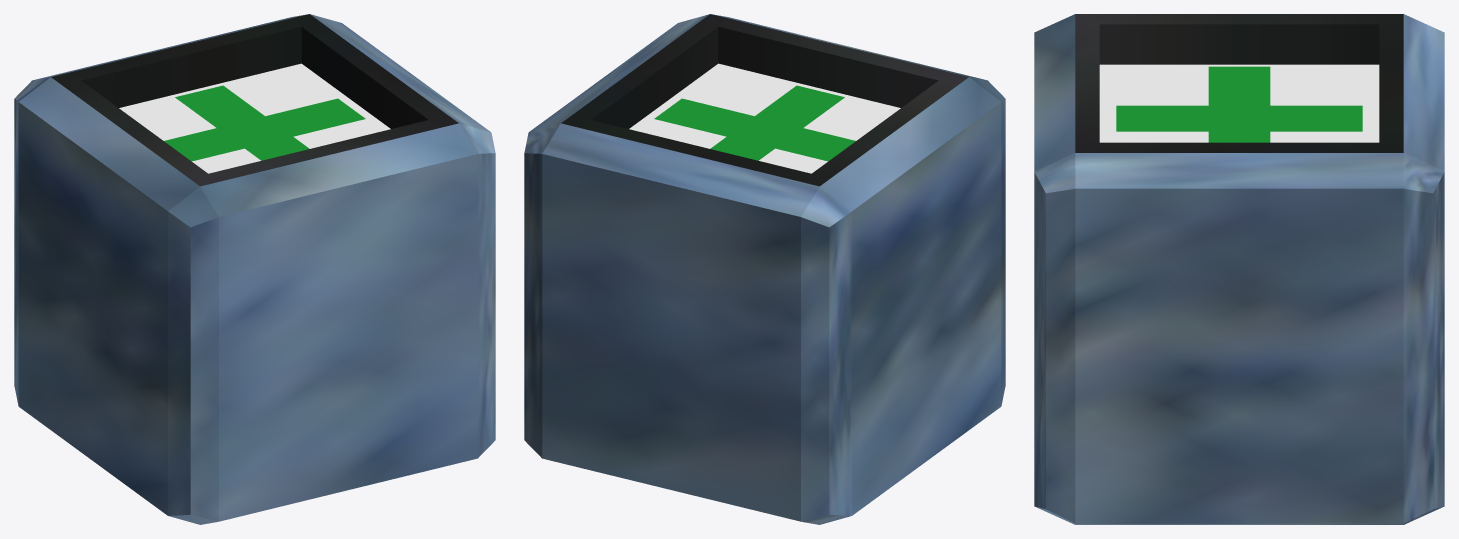
File: majadroid-accessories.glb
3 renders of one model, left to right at view 1: azimuth 30°, elevation 25°; view 2: azimuth 150°, elevation 25°; view 3: azimuth 270°, elevation 25°, orthographic. The views are drawn at different scales.
Visible parts, largest first — view 1: HealthBox; view 2: HealthBox; view 3: HealthBox.
Part boxes in pixels (x1,y1,x2,y2): HealthBox: [14, 14, 495, 524]; HealthBox: [524, 14, 1005, 524]; HealthBox: [1034, 14, 1444, 524].
Bounding box in the file's own units: 6.4 × 6.4 × 6.4.
2 materials, 2 textured.
